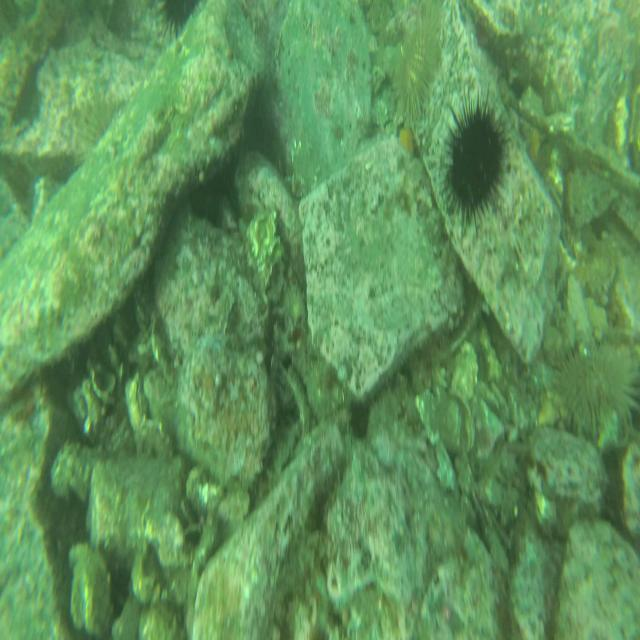echinus: (554, 336, 639, 446), (440, 97, 510, 229), (394, 6, 446, 121), (73, 94, 127, 167), (153, 0, 203, 46)
